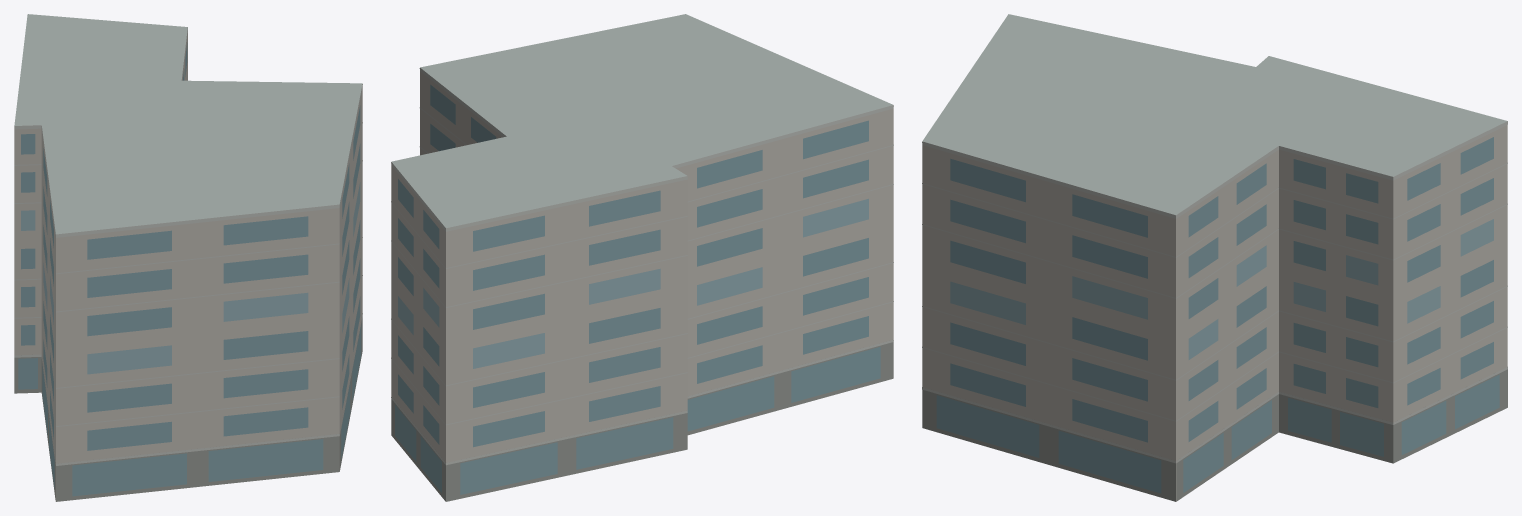
Rendered from survey-upis-32629212.glb.
3 renders of one model, left to right at view 1: azimuth 30°, elevation 25°; view 2: azimuth 150°, elevation 25°; view 3: azimuth 270°, elevation 25°, orthographic. The views are drawn at different scales.
Visible parts, largest first — view 1: survey-upis-32629212.tmp; view 2: survey-upis-32629212.tmp; view 3: survey-upis-32629212.tmp.
Part boxes in pixels (x1=…): survey-upis-32629212.tmp: x1=14, y1=14, x2=362, y2=501; survey-upis-32629212.tmp: x1=391, y1=14, x2=893, y2=501; survey-upis-32629212.tmp: x1=922, y1=14, x2=1507, y2=501.
Size of the model in its own units: 28.07 by 18.62 by 34.5.
